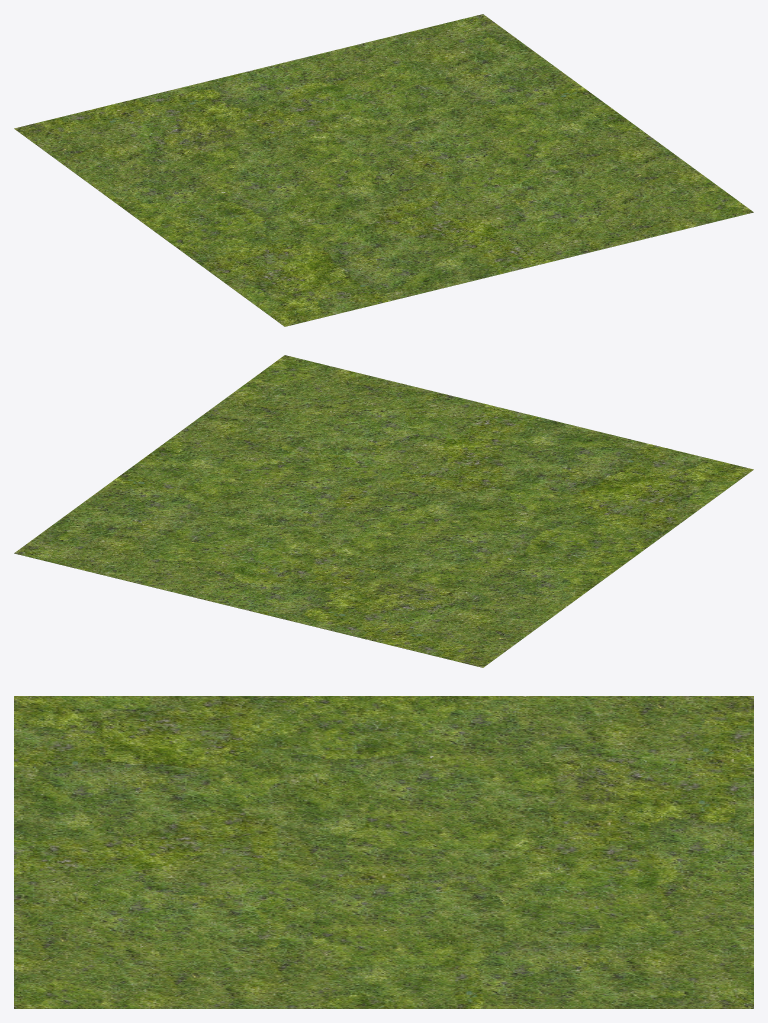
File: Pasto.obj
3 views of the same model, one above another, from view 1: azimuth 30°, elevation 25°; view 2: azimuth 150°, elevation 25°; view 3: azimuth 270°, elevation 25° (orthographic). The views are drawn at different scales.
Parts seen in each view (by area): view 1: pCube42; view 2: pCube42; view 3: pCube42.
Boxes of the visible parts, x1=… form: pCube42: x1=14, y1=14, x2=753, y2=326; pCube42: x1=14, y1=355, x2=753, y2=667; pCube42: x1=14, y1=696, x2=753, y2=1008.
Size of the model in its own units: 80000 by 30 by 80000.
Materials: 1 (1 with a texture image).
